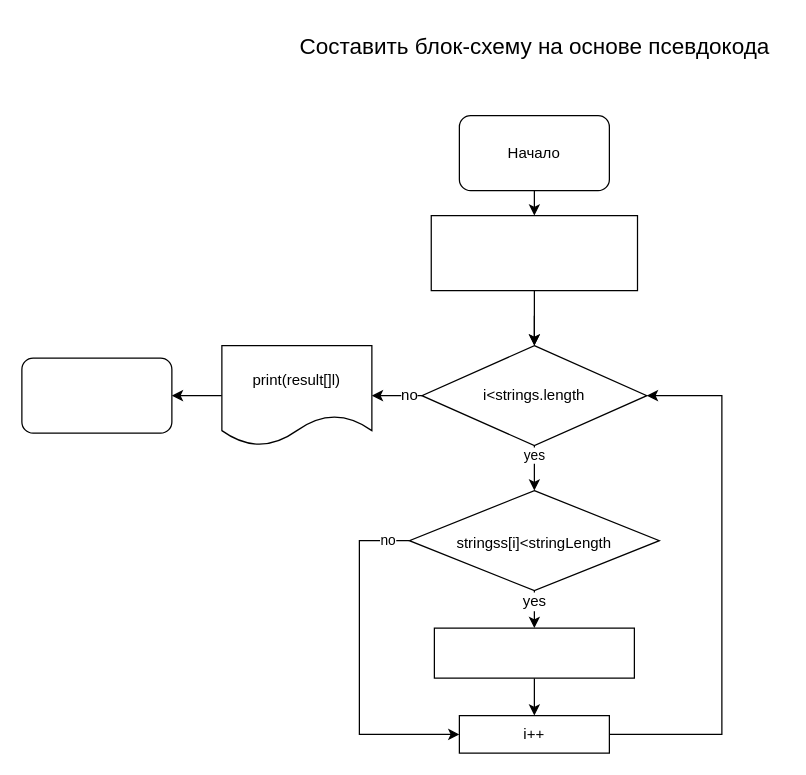
The diagram is 806 pixels wide and 775 high, and some of its shapes have lost their labels. The centre of each missing label's shape, as x and y in pixels:
result[j]=strings[i] j++: (x=533, y=652)
strings[]=GetStrings(), result[]; stringLength=4, i=0, j=0: (x=534, y=252)
Конец: (x=96, y=395)
